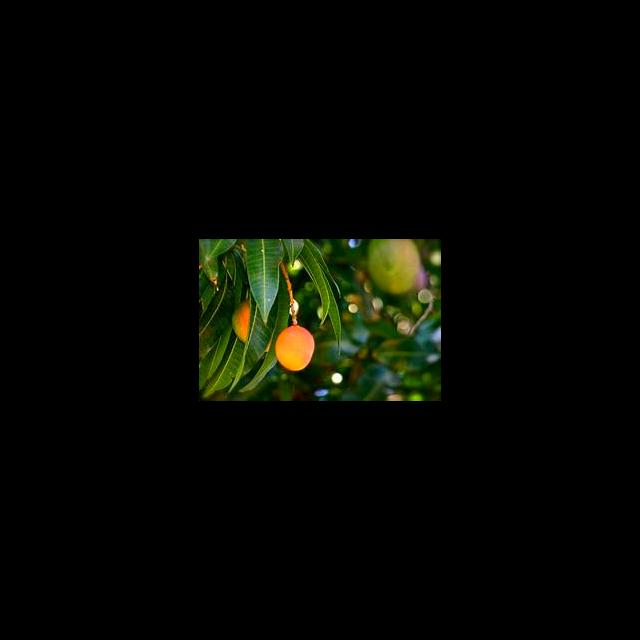mango: (368, 239, 420, 294), (276, 325, 314, 371), (232, 300, 250, 343)
